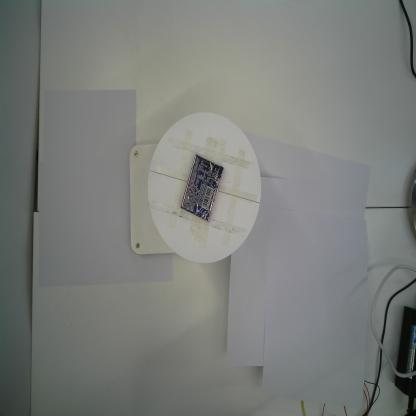Gum: (180, 152, 224, 224)
